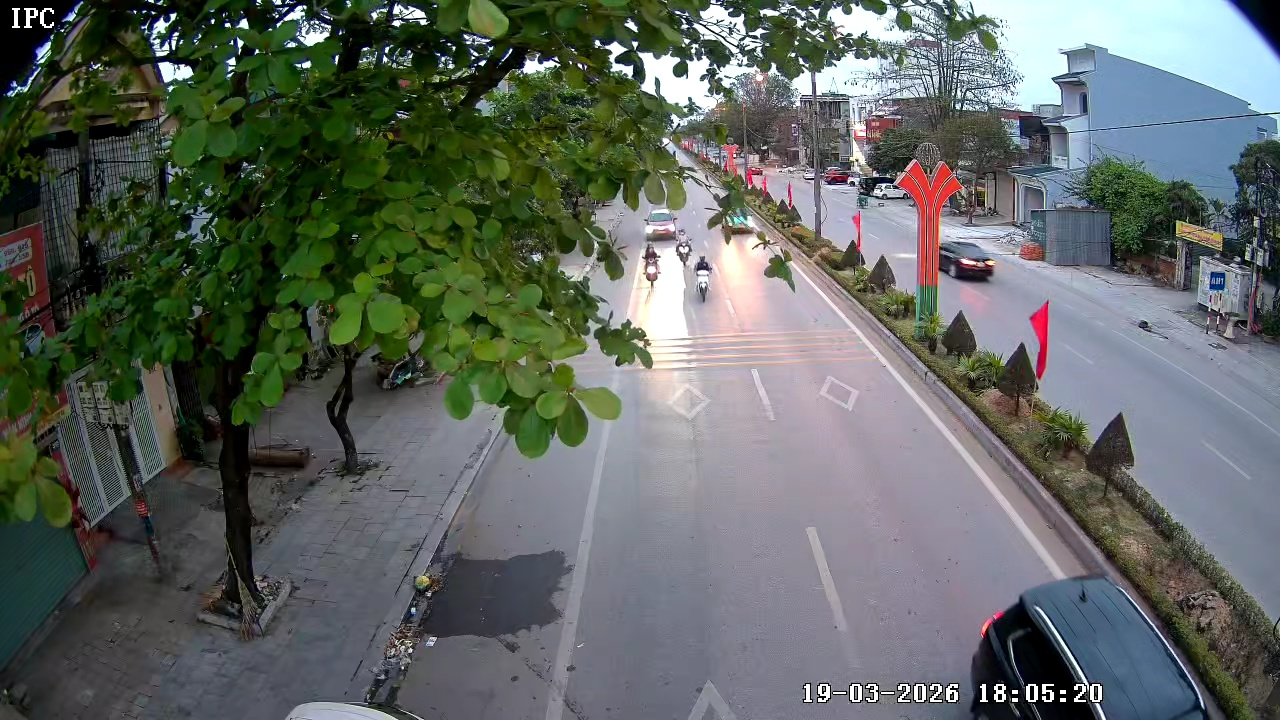car: (966, 574, 1215, 719), (939, 236, 996, 282), (643, 206, 679, 241)
motorbike: (693, 253, 716, 303), (640, 242, 663, 284)
